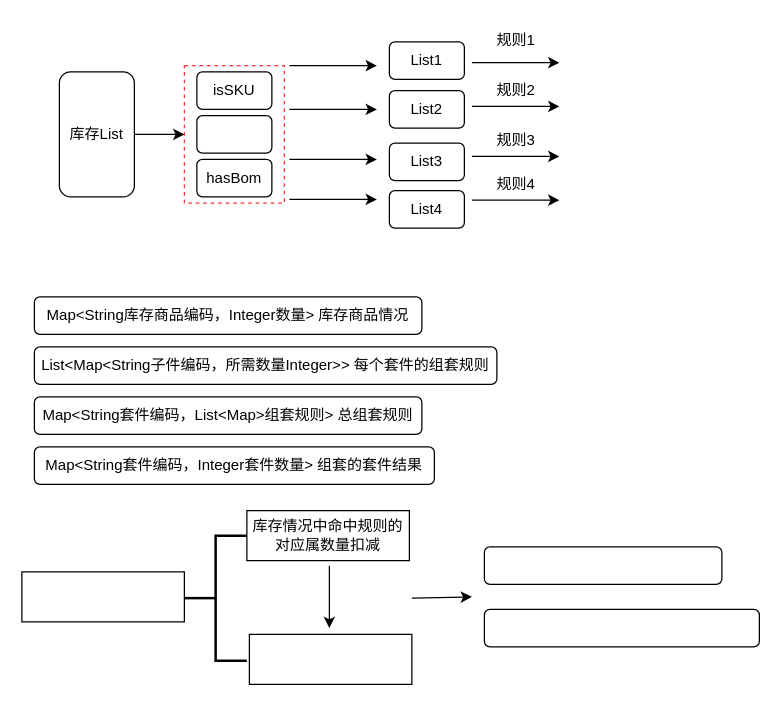
Some shapes in this 781 by 706 pixel diagram are drawn without their labels. The shapes that lost their labels are listed below. From the top down, each one's box as (x1, y1, x2, y2) in pixels, then its label:
(196, 114, 272, 153): has番号
(483, 546, 722, 584): 库存商品情况：未配对子件情况
(21, 571, 184, 622): for each 总组套规则
(483, 608, 759, 647): 组套的套件结果：组合完成的套件情况
(248, 633, 412, 684): 组套的套件结果增加
